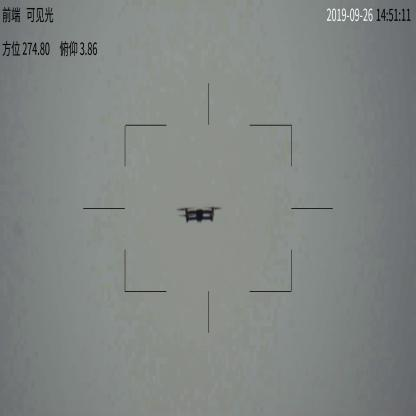uav: (174, 203, 223, 227)
